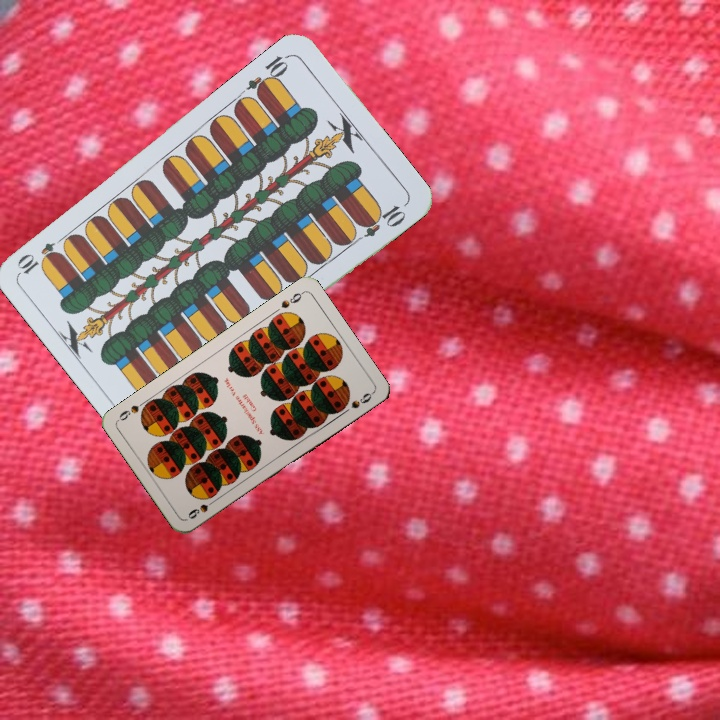E10: (243, 50, 293, 100)
S9: (184, 494, 220, 522), (277, 288, 306, 311)
